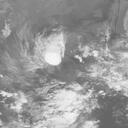cyclone: (33, 31, 64, 66)
